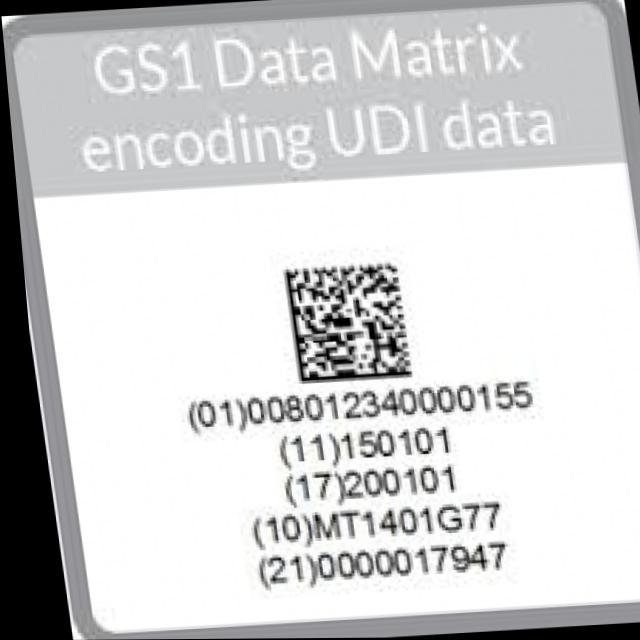datamatrix: (269, 252, 421, 392)
